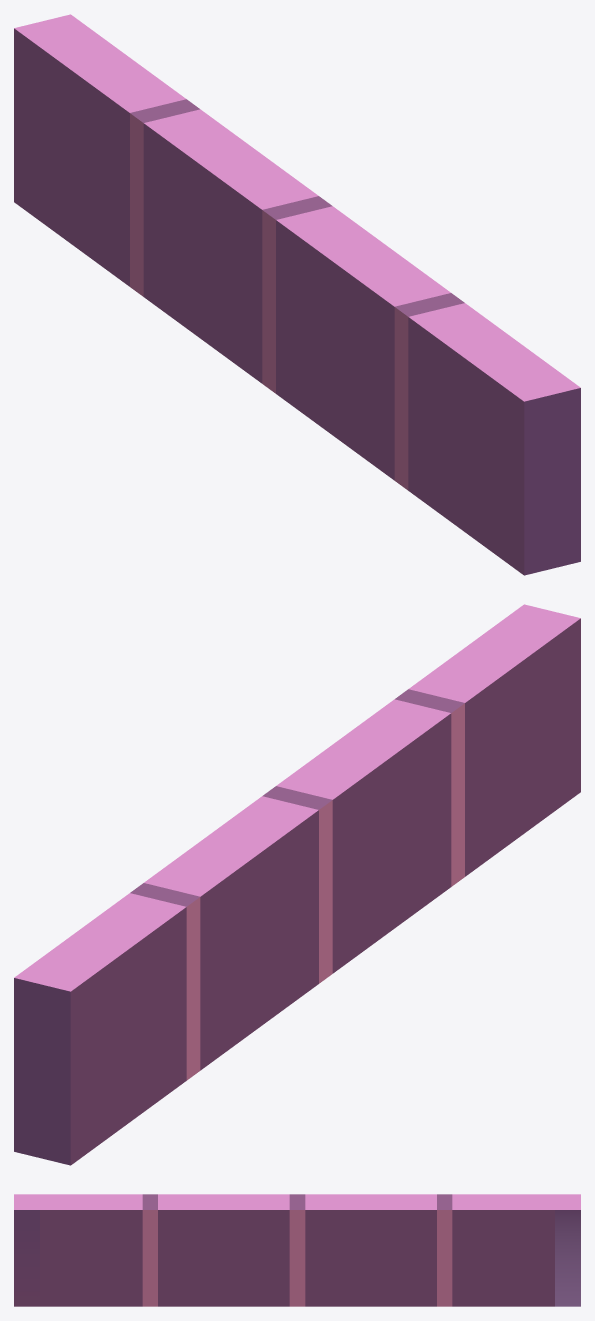
File: fence00.fbx
The picture shows the model from 3 angles, top to bottom: view 1: azimuth 30°, elevation 25°; view 2: azimuth 150°, elevation 25°; view 3: azimuth 270°, elevation 25°; orthographic projection. The views are drawn at different scales.
Parts seen in each view (by area): view 1: base, top, shade; view 2: base, top, shade; view 3: base, top, shade.
Part boxes in pixels (x1,y1,x2,y2): base: (14,28,580,575); top: (14,14,580,401); shade: (130,99,464,490); base: (14,618,580,1165); top: (14,604,580,991); shade: (130,689,464,1080); base: (14,1210,580,1306); top: (14,1194,580,1209); shade: (142,1194,452,1306).
Size of the model in its own units: 0.3018 by 0.8828 by 4.69.
